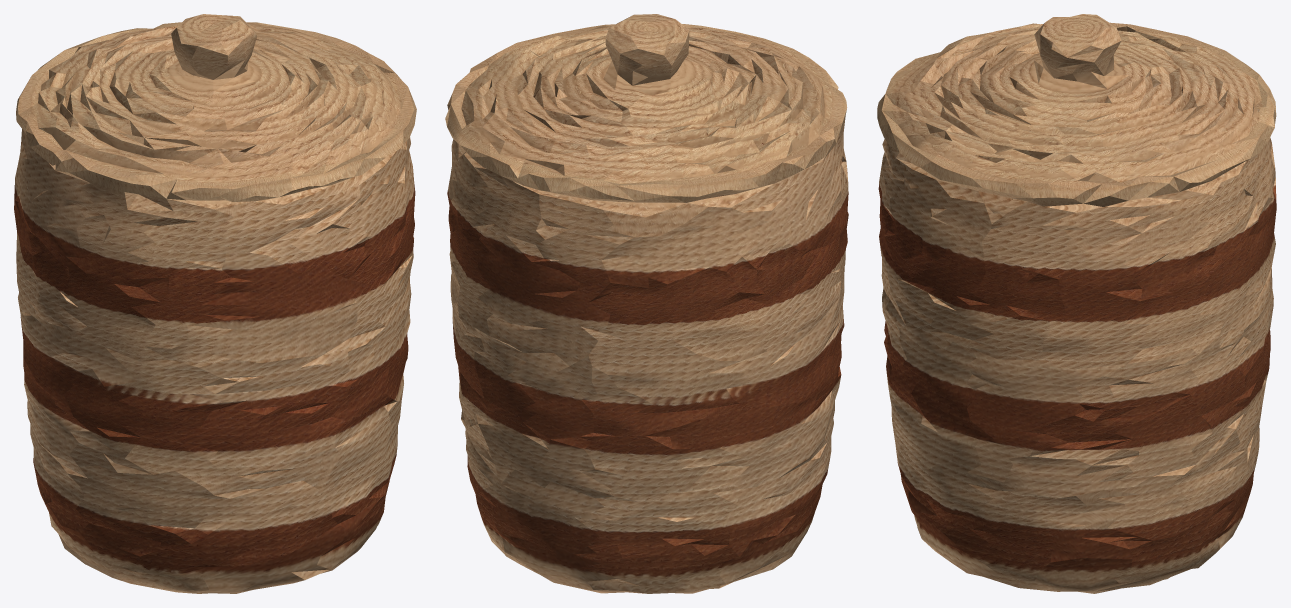
File: basket.glb
3 views of the same model, side by side, from view 1: azimuth 30°, elevation 25°; view 2: azimuth 150°, elevation 25°; view 3: azimuth 270°, elevation 25° (orthographic).
Parts seen in each view (by area): view 1: output_unwrapped; view 2: output_unwrapped; view 3: output_unwrapped.
Part boxes in pixels (<box>): output_unwrapped: <box>14,14,416,593</box>; output_unwrapped: <box>445,14,848,593</box>; output_unwrapped: <box>877,14,1276,593</box>.
Bounding box in the file's own units: 1.35 × 1.9 × 1.35.
1 material, 1 textured.
